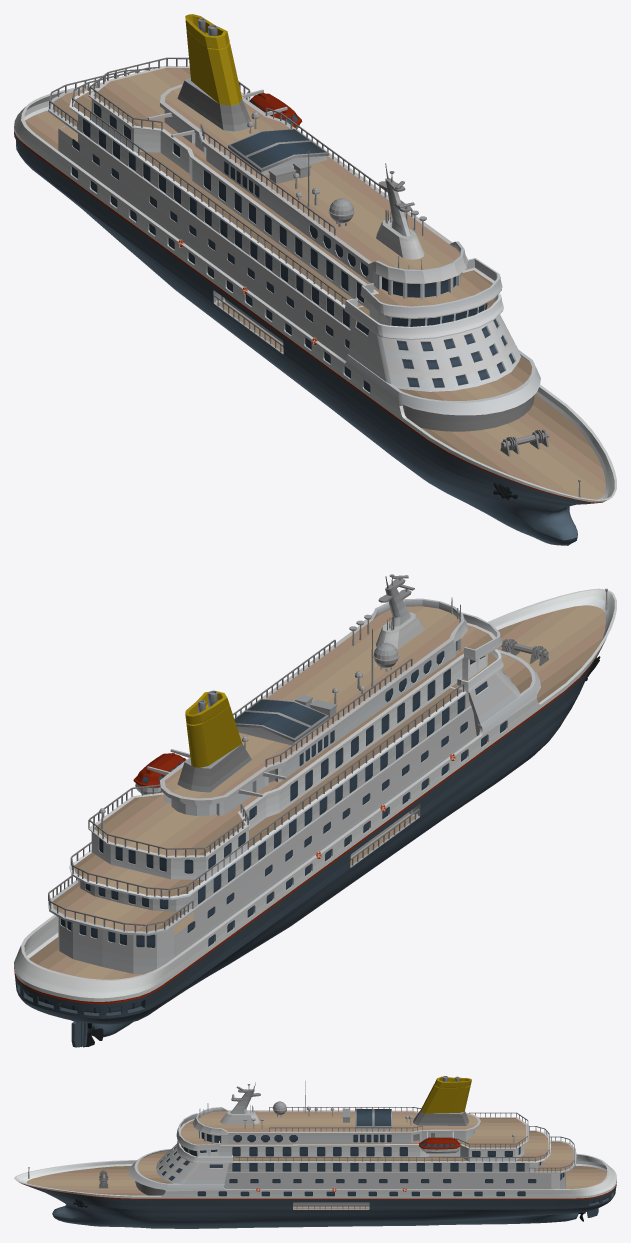
File: cruise_liner.glb
3 views of the same model, one above another, from view 1: azimuth 30°, elevation 25°; view 2: azimuth 150°, elevation 25°; view 3: azimuth 270°, elevation 25° (orthographic). The views are drawn at different scales.
Visible parts, largest first — view 1: Cruise liner, Lifeboat; view 2: Cruise liner, Lifeboat; view 3: Cruise liner, Lifeboat.
Part boxes in pixels (left/top/right/bottom): Cruise liner: left=14, top=14, right=616, bottom=545; Lifeboat: left=249, top=92, right=302, bottom=128; Cruise liner: left=14, top=574, right=616, bottom=1046; Lifeboat: left=133, top=753, right=186, bottom=794; Cruise liner: left=14, top=1076, right=616, bottom=1228; Lifeboat: left=419, top=1137, right=460, bottom=1153.
Bounding box in the file's own units: 27.54 × 49.67 × 184.
7 materials, 7 textured.
